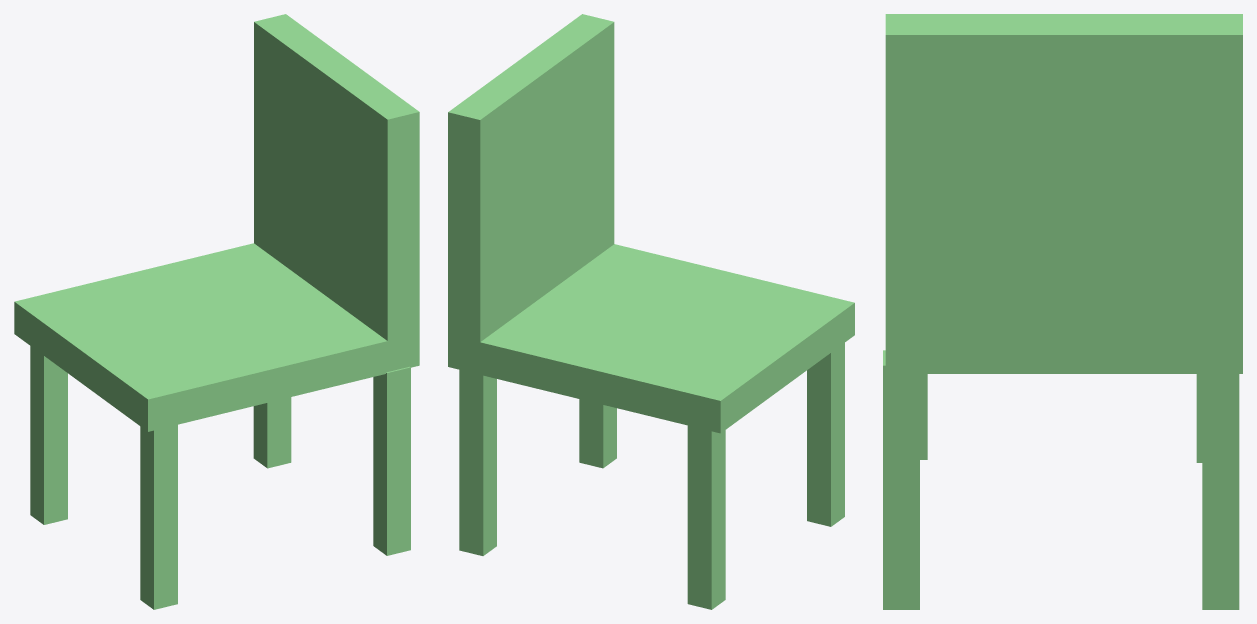
The model's file is chair.fbx.
3 renders of one model, left to right at view 1: azimuth 30°, elevation 25°; view 2: azimuth 150°, elevation 25°; view 3: azimuth 270°, elevation 25°, orthographic. The views are drawn at different scales.
Parts seen in each view (by area): view 1: chair1; view 2: chair1; view 3: chair1.
Part boxes in pixels (<box>): chair1: <box>14,14,419,609</box>; chair1: <box>448,14,854,609</box>; chair1: <box>883,14,1242,609</box>.
Size of the model in its own units: 5.27 by 8.07 by 4.53.
